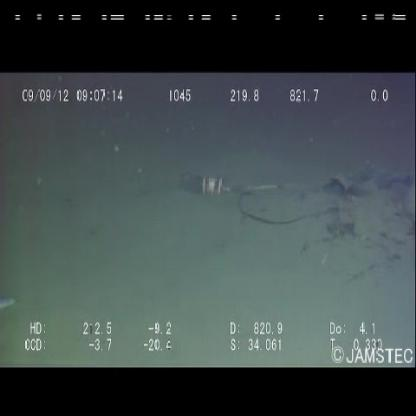Rác: (174, 155, 247, 206)
